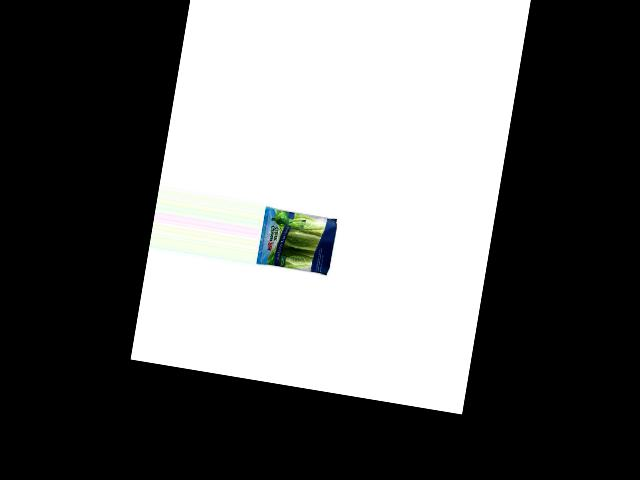lettuce: (259, 205, 341, 276)
